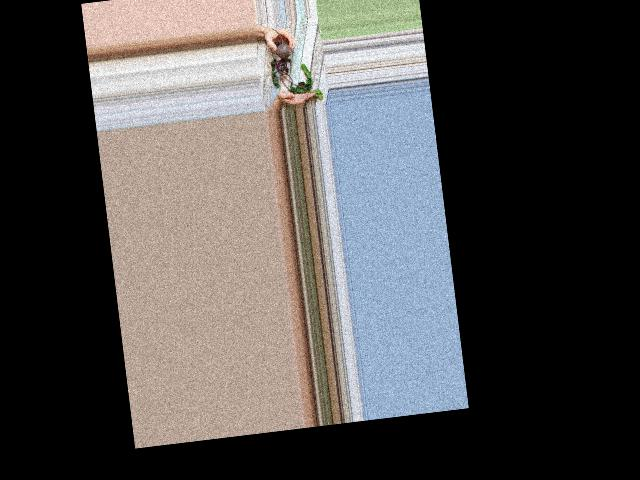beet: (266, 23, 323, 104)
